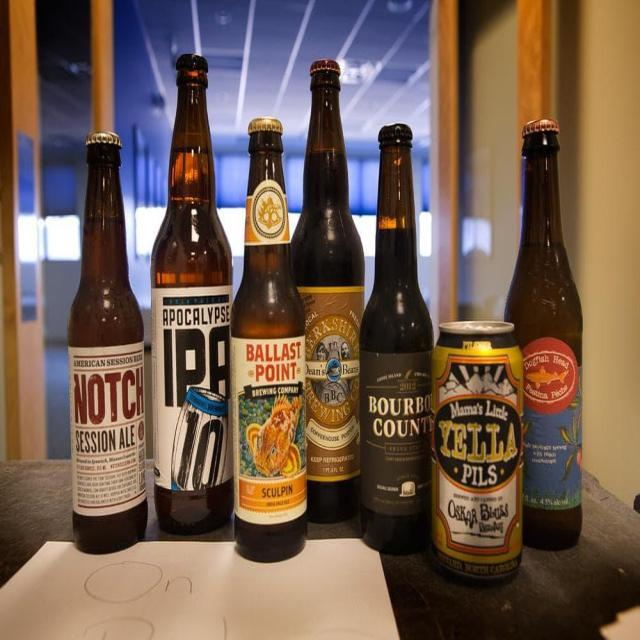can: (432, 320, 524, 586)
glass bottle: (150, 53, 234, 535), (500, 118, 584, 551), (230, 115, 307, 562), (66, 130, 146, 556), (292, 58, 364, 523), (362, 124, 436, 555)
